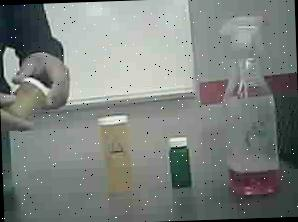Bottle A: (94, 110, 144, 200)
Bottle B: (0, 75, 59, 127)
Bottle C: (164, 134, 200, 195)
hazard: (214, 11, 297, 206)
